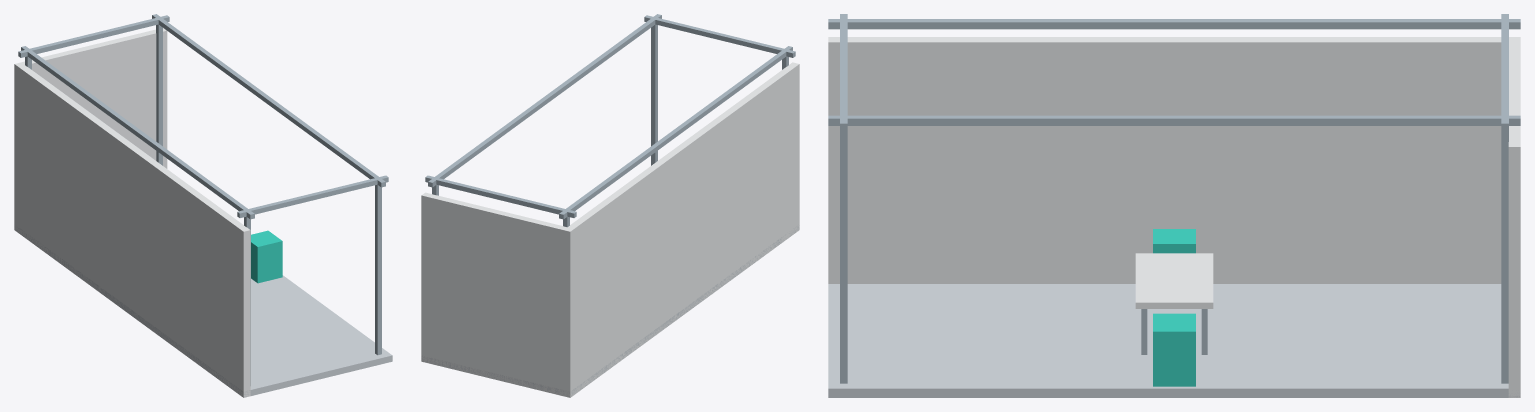
The picture shows the model from 3 angles, left to right: view 1: azimuth 30°, elevation 25°; view 2: azimuth 150°, elevation 25°; view 3: azimuth 270°, elevation 25°; orthographic projection. The views are drawn at different scales.
Visible parts, largest first — view 1: Exhibition Booth Concept; view 2: Exhibition Booth Concept; view 3: Exhibition Booth Concept.
Part boxes in pixels (x1,y1,x2,y2): Exhibition Booth Concept: (14, 14, 392, 397); Exhibition Booth Concept: (421, 14, 799, 397); Exhibition Booth Concept: (828, 14, 1520, 397).
Size of the model in its own units: 3 by 3.49 by 8.
